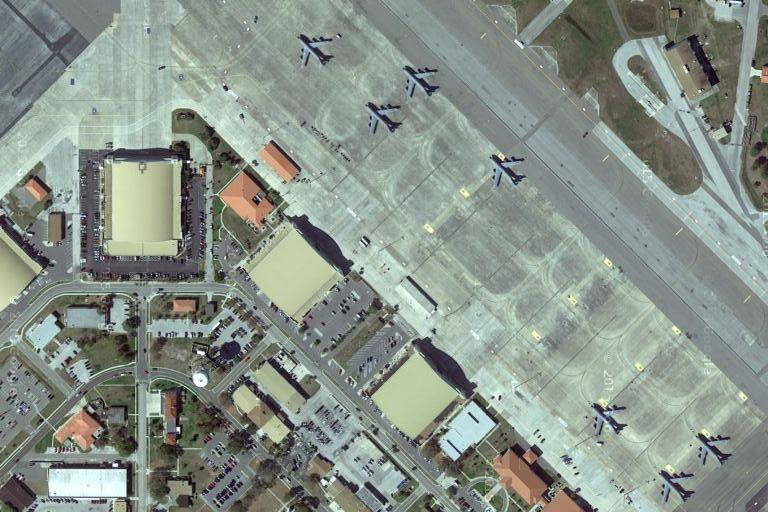KC-135: (692, 426, 735, 472), (655, 469, 700, 508), (487, 153, 528, 193), (590, 400, 632, 439), (294, 33, 337, 69), (363, 100, 403, 138), (401, 64, 442, 101)
